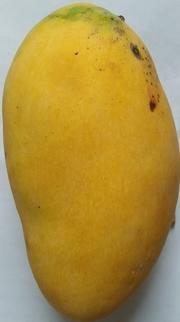Ripe: (1, 1, 180, 322)
